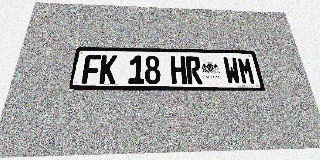1: (128, 55, 144, 84)
8: (145, 56, 160, 84)
F: (81, 55, 101, 84)
H: (170, 56, 187, 84)
K: (99, 55, 117, 84)
M: (237, 57, 256, 84)
R: (185, 56, 203, 84)
W: (222, 57, 241, 84)
